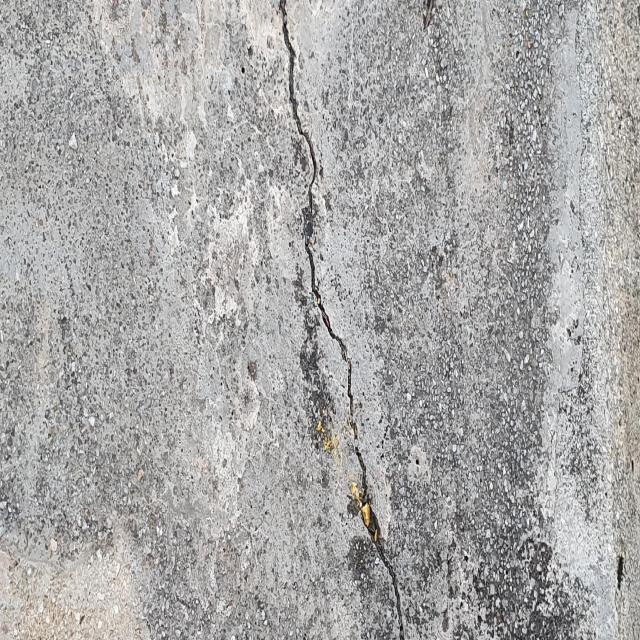SurfaceCrack: (247, 2, 443, 638)
